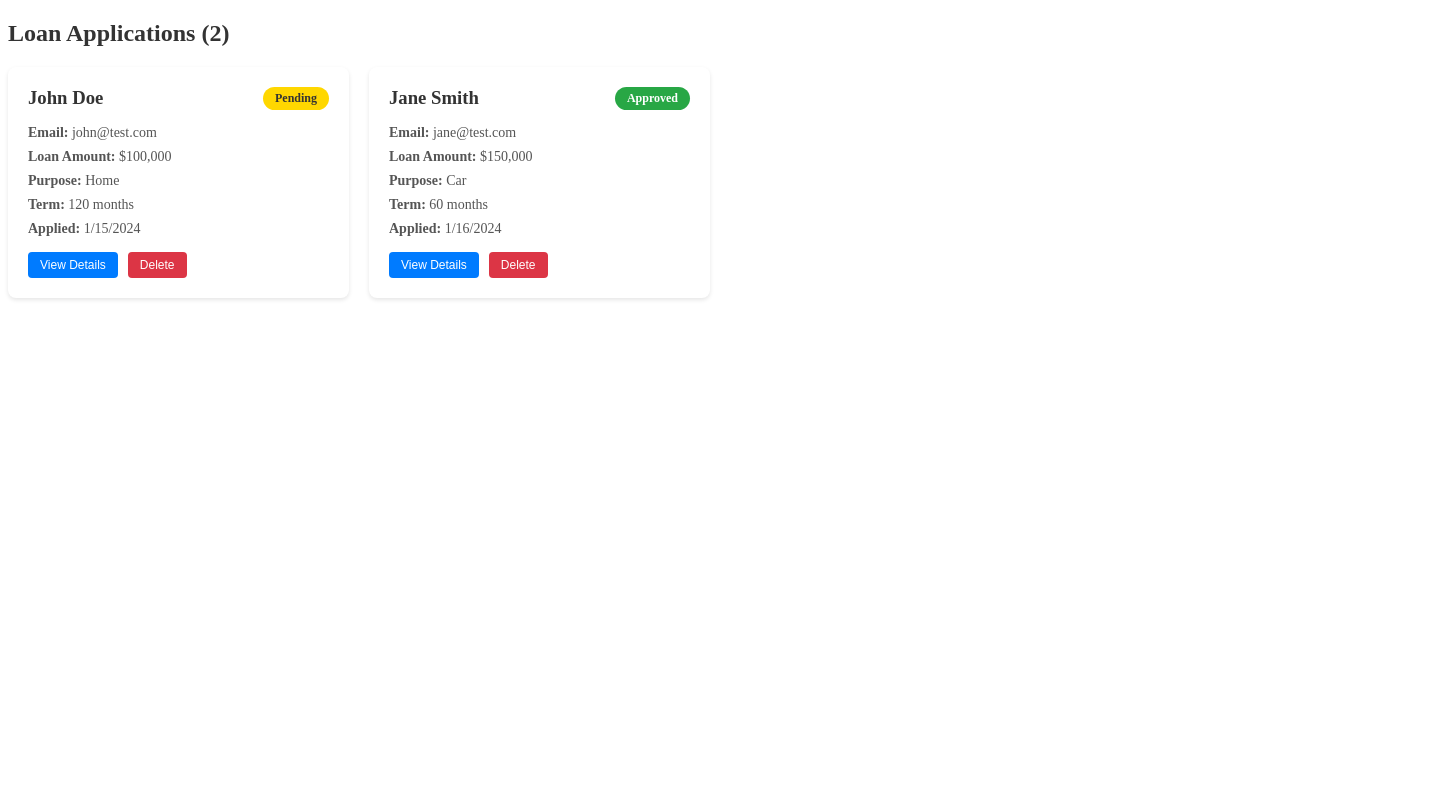
LoanList Component › should show LoanDetails modal when View Details is clicked
Step 1. Click the button "View Details" below "1/15/2024" → (73, 265), box [28,252,118,278]
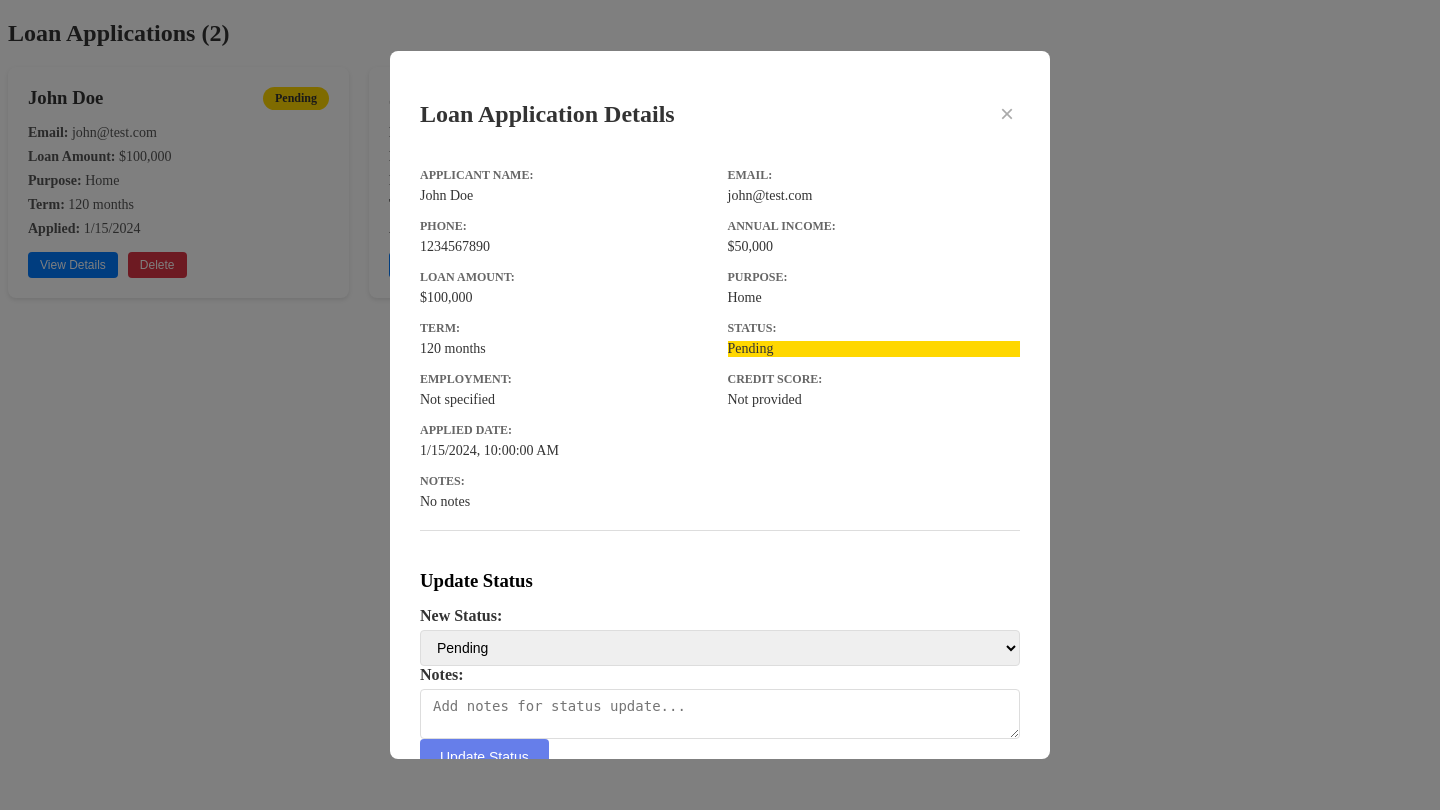
Check: the heading "Loan Application Details" is shown, box [420,101,675,128]
